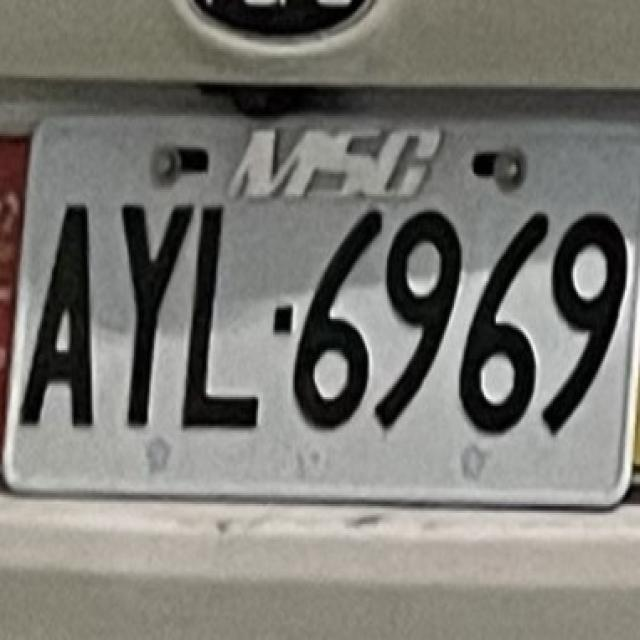license-plate: (8, 99, 633, 504)
